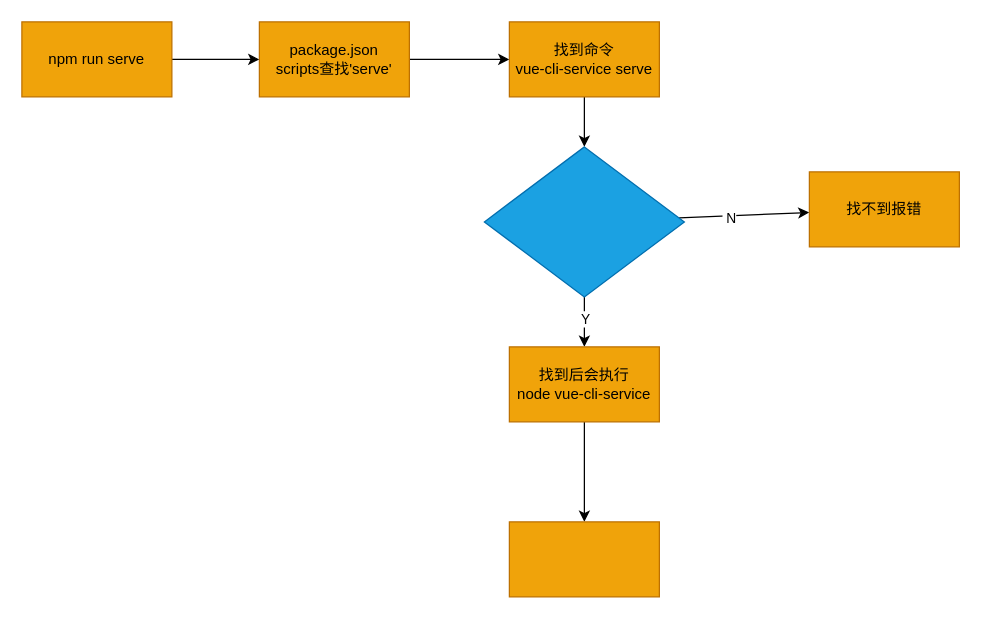
This 981x619 diagram has some shape labels left out. The shapes that lost their labels are listed below. From the top down, each one's centre as x and y in pixels, then its label:
(583,221): node_modules/bin 找对应命令 vue-cli-service
(583,559): vue-cli-service包中 bin/vue-cli-service命令去执行对应方法
